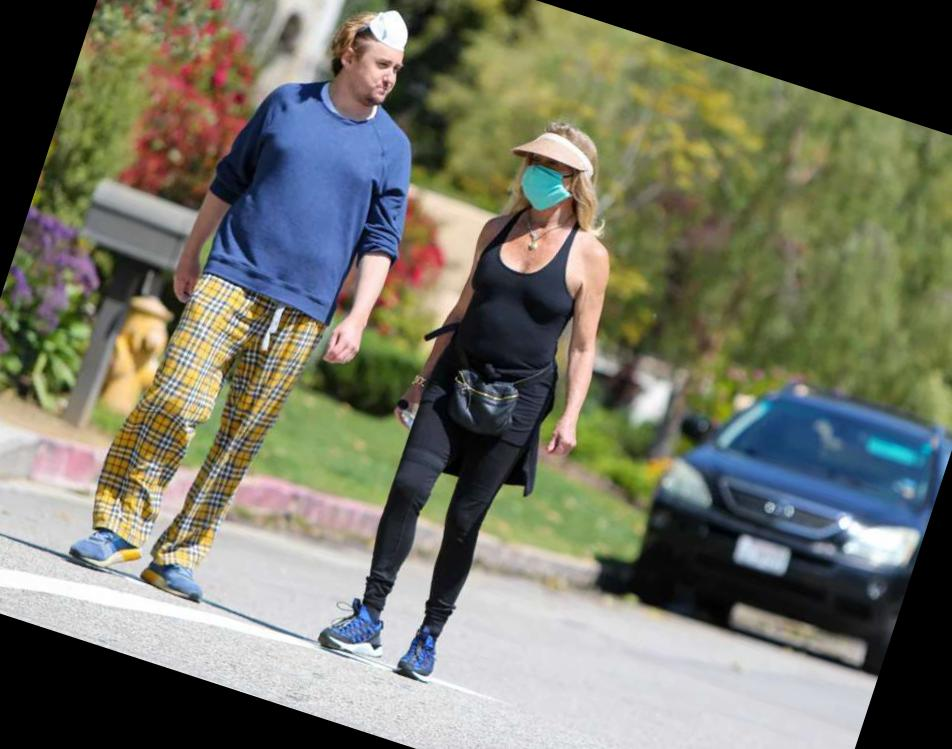mask_weared_incorrect: (344, 24, 415, 114)
with_mask: (514, 152, 577, 209)
